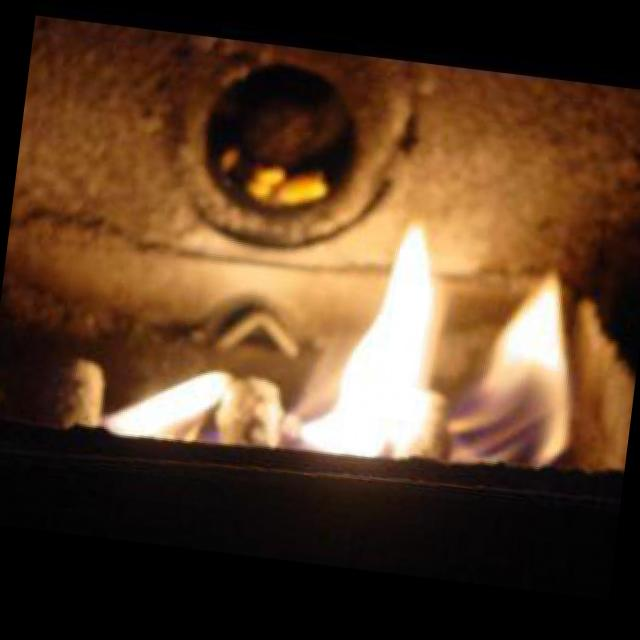fire: (48, 178, 640, 491)
